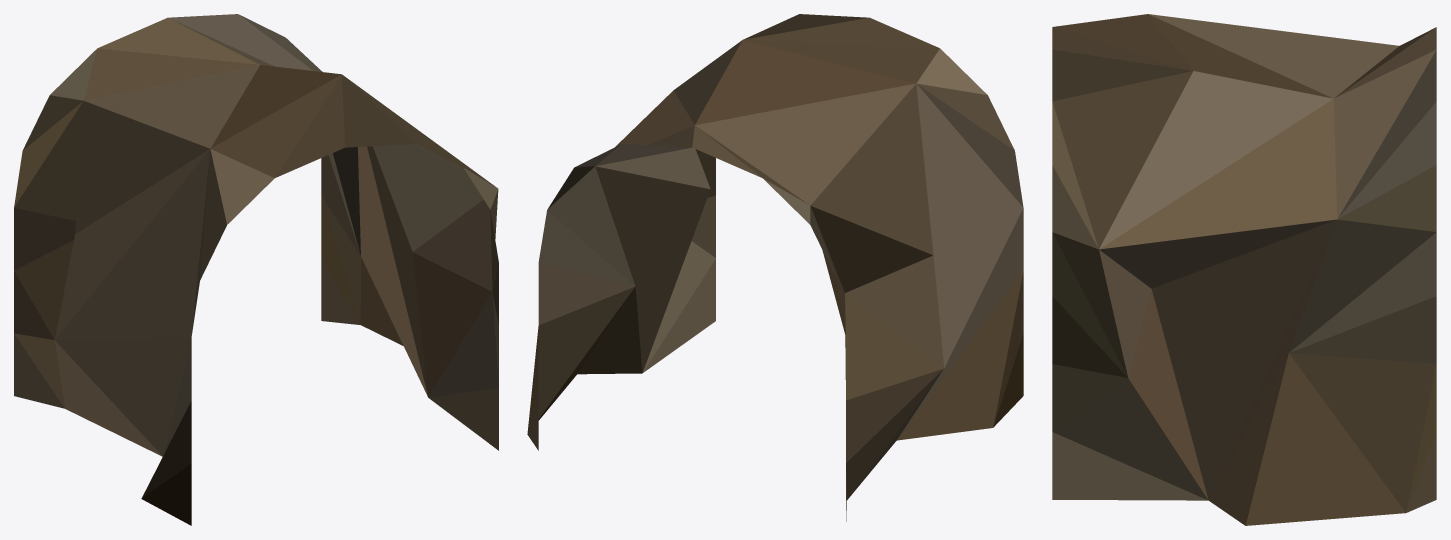
Rendered from Cave-Hall5mC.fbx.
3 views of the same model, side by side, from view 1: azimuth 30°, elevation 25°; view 2: azimuth 150°, elevation 25°; view 3: azimuth 270°, elevation 25° (orthographic). The views are drawn at different scales.
Visible parts, largest first — view 1: Cave-Hall5mC; view 2: Cave-Hall5mC; view 3: Cave-Hall5mC.
Part boxes in pixels (box(x1,y1,x2,y2)): Cave-Hall5mC: box(14, 14, 498, 525); Cave-Hall5mC: box(527, 14, 1023, 521); Cave-Hall5mC: box(1052, 14, 1436, 525).
Bounding box in the file's own units: 627 × 546 × 500.
